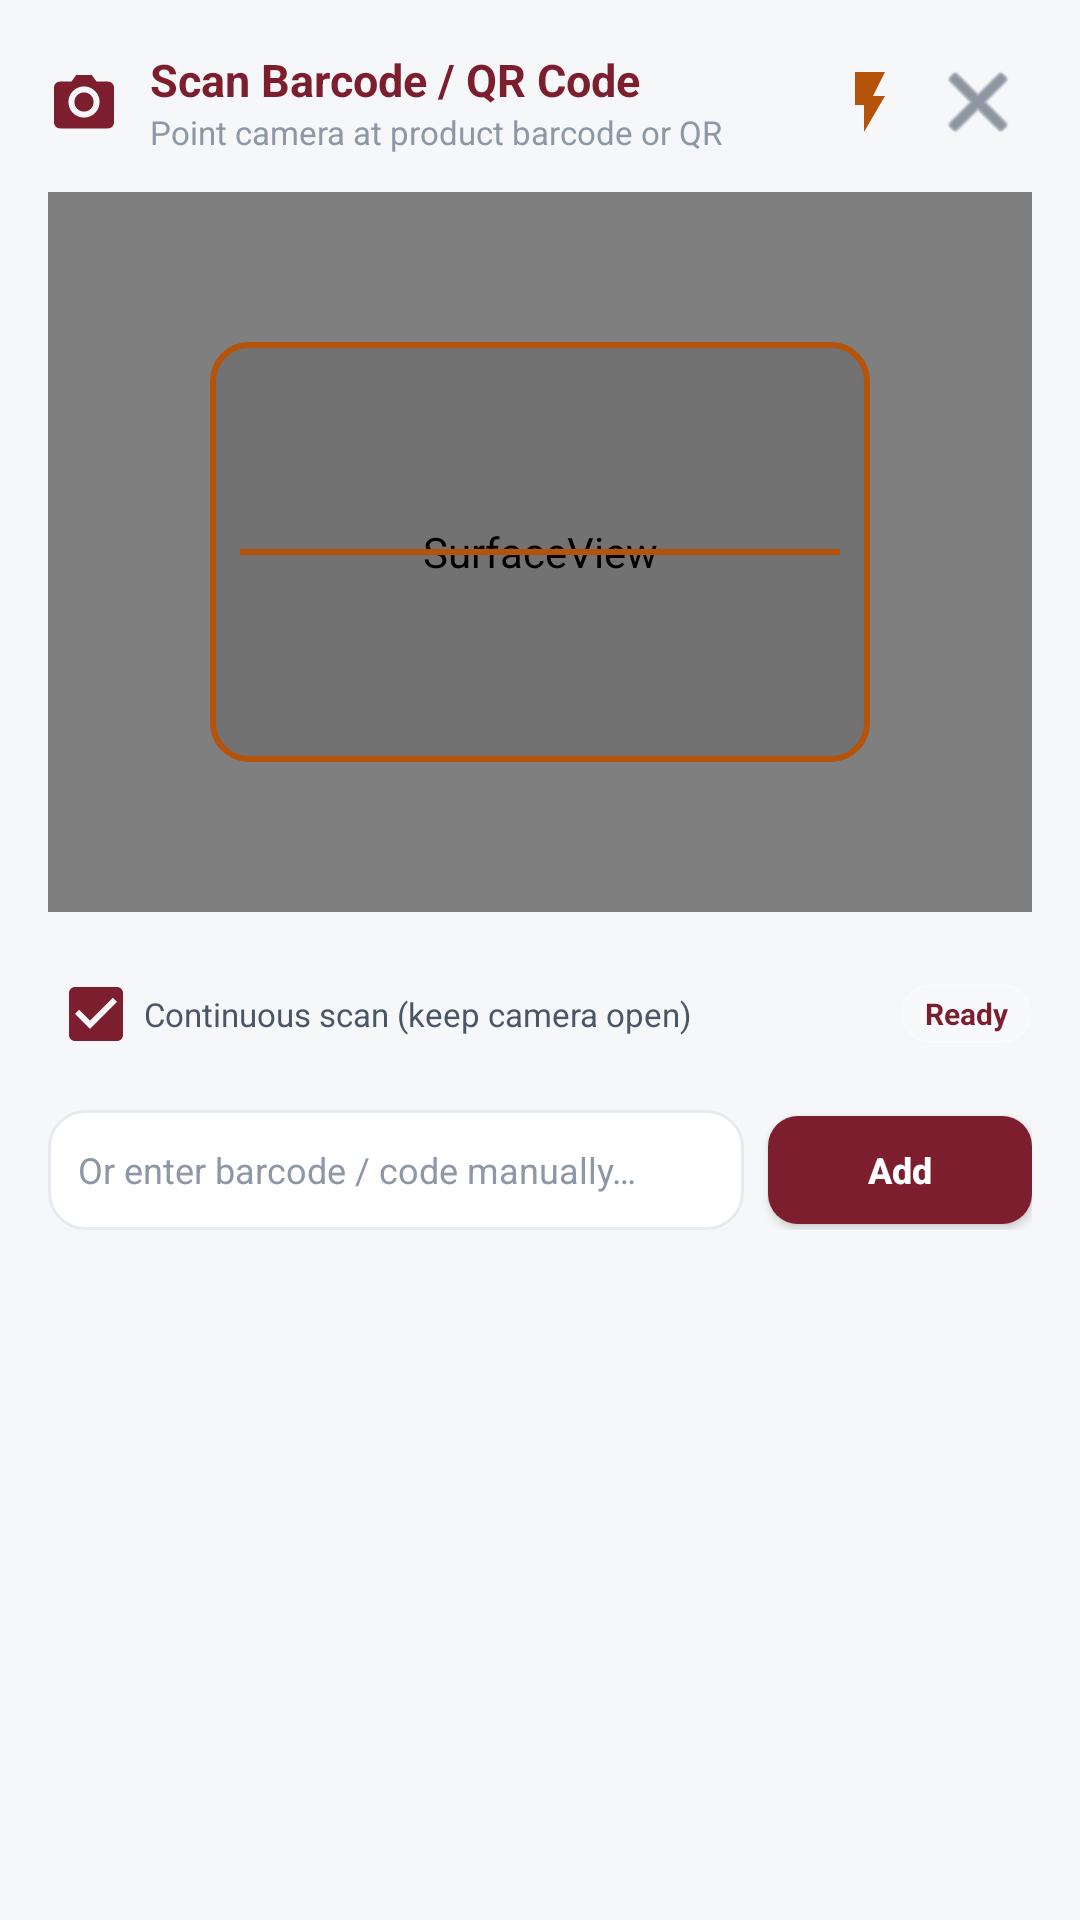

Icons on this 1080x1920 Android screen, each with the point to tap as (x,y):
camera scanner: (84,102)
Close Scanner: (978,102)
Toggle Flashlight: (870,102)
